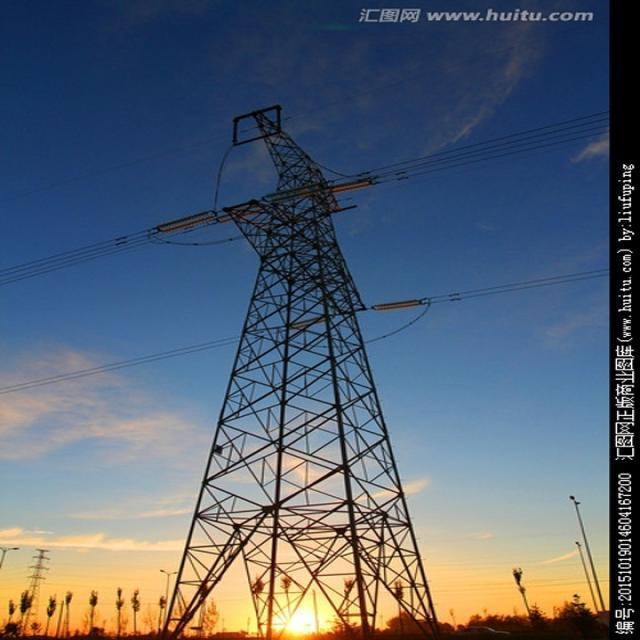non-critical vegetation: (146, 100, 440, 634)
